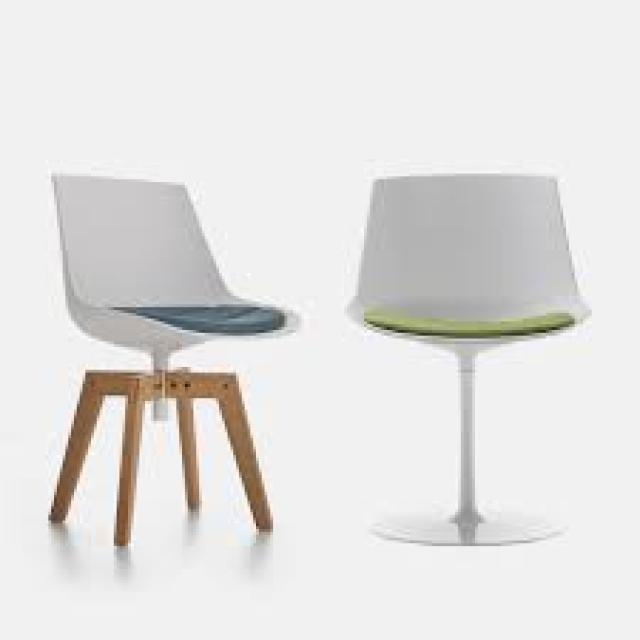chair: (330, 156, 634, 610), (26, 144, 312, 574)
